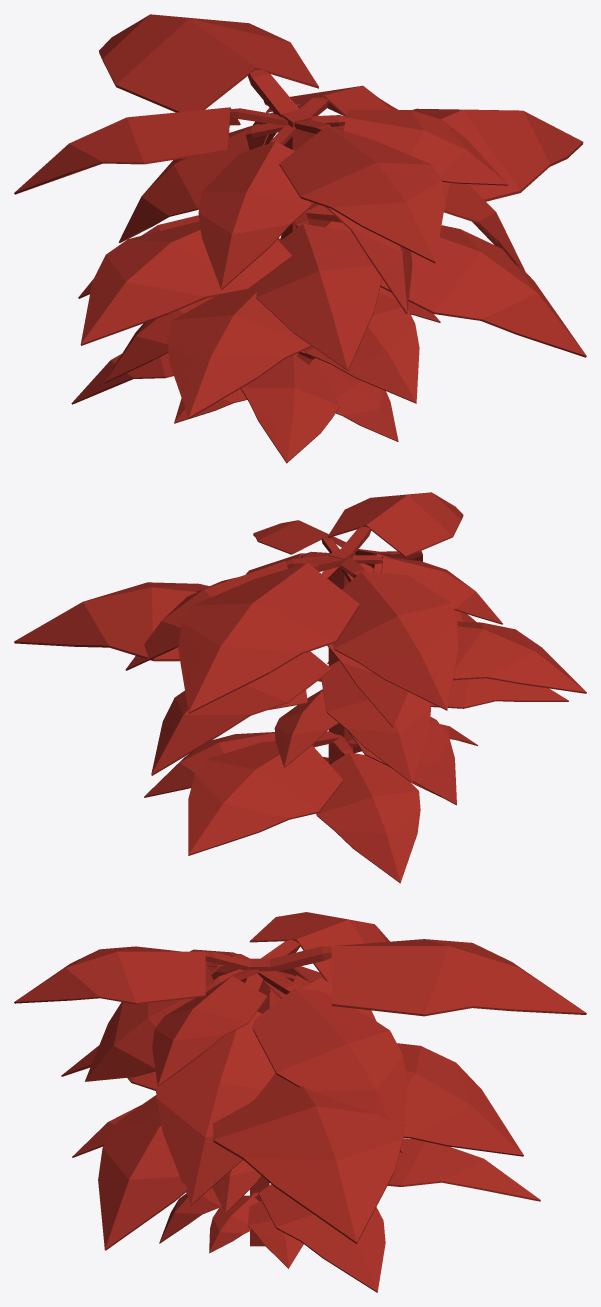
File: Plant_03.fbx
3 renders of one model, top to bottom at view 1: azimuth 30°, elevation 25°; view 2: azimuth 150°, elevation 25°; view 3: azimuth 270°, elevation 25°, orthographic. The views are drawn at different scales.
Visible parts, largest first — view 1: Plant_03; view 2: Plant_03; view 3: Plant_03.
Part boxes in pixels (x1,y1,x2,y2): Plant_03: (14,14,586,463); Plant_03: (14,492,586,883); Plant_03: (14,912,586,1292).
Size of the model in its own units: 848 by 453 by 795.
